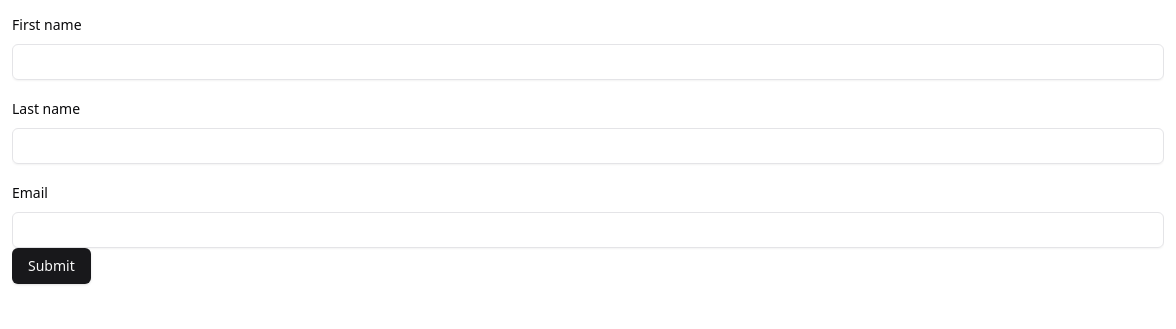
PersonalInformation › should validate email input
This screenshot has width=1176, height=329.
Type "test" into the field labelled "First name". click: (588, 62)
box: [12, 44, 1164, 80]
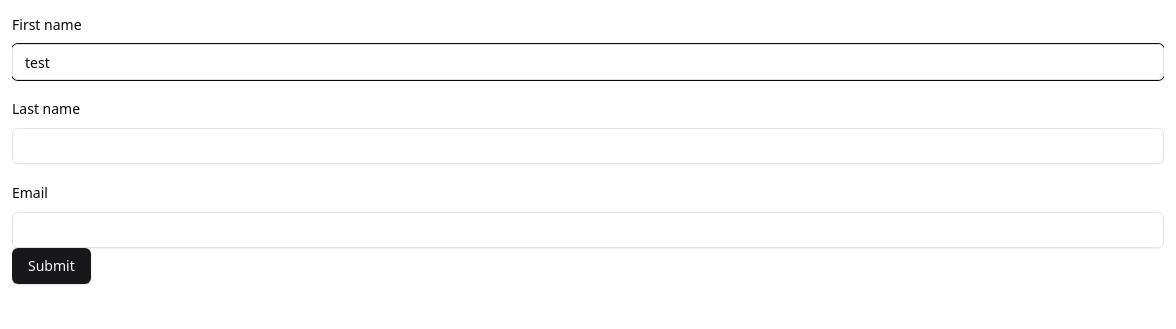
Type "last name" into the field labelled "Last name". click: (588, 146)
box: [12, 128, 1164, 164]
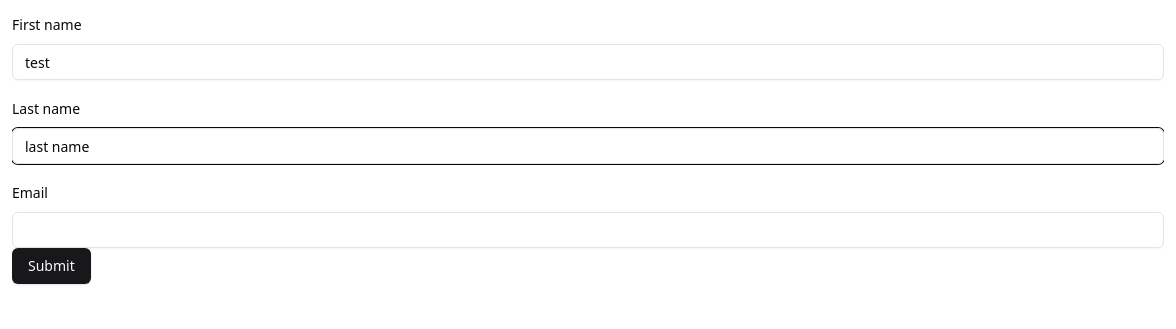
Type "email" into the field labelled "Email". click: (588, 230)
box: [12, 212, 1164, 248]
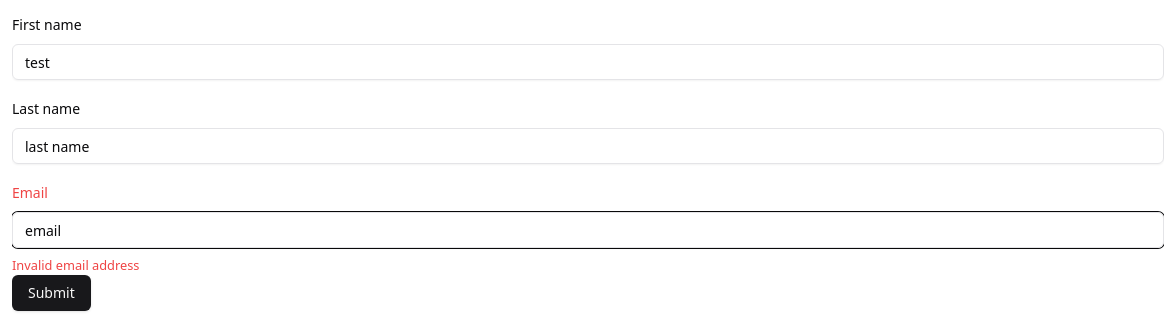
Expected: the text "Invalid email address" is shown, [12, 256, 140, 274]
